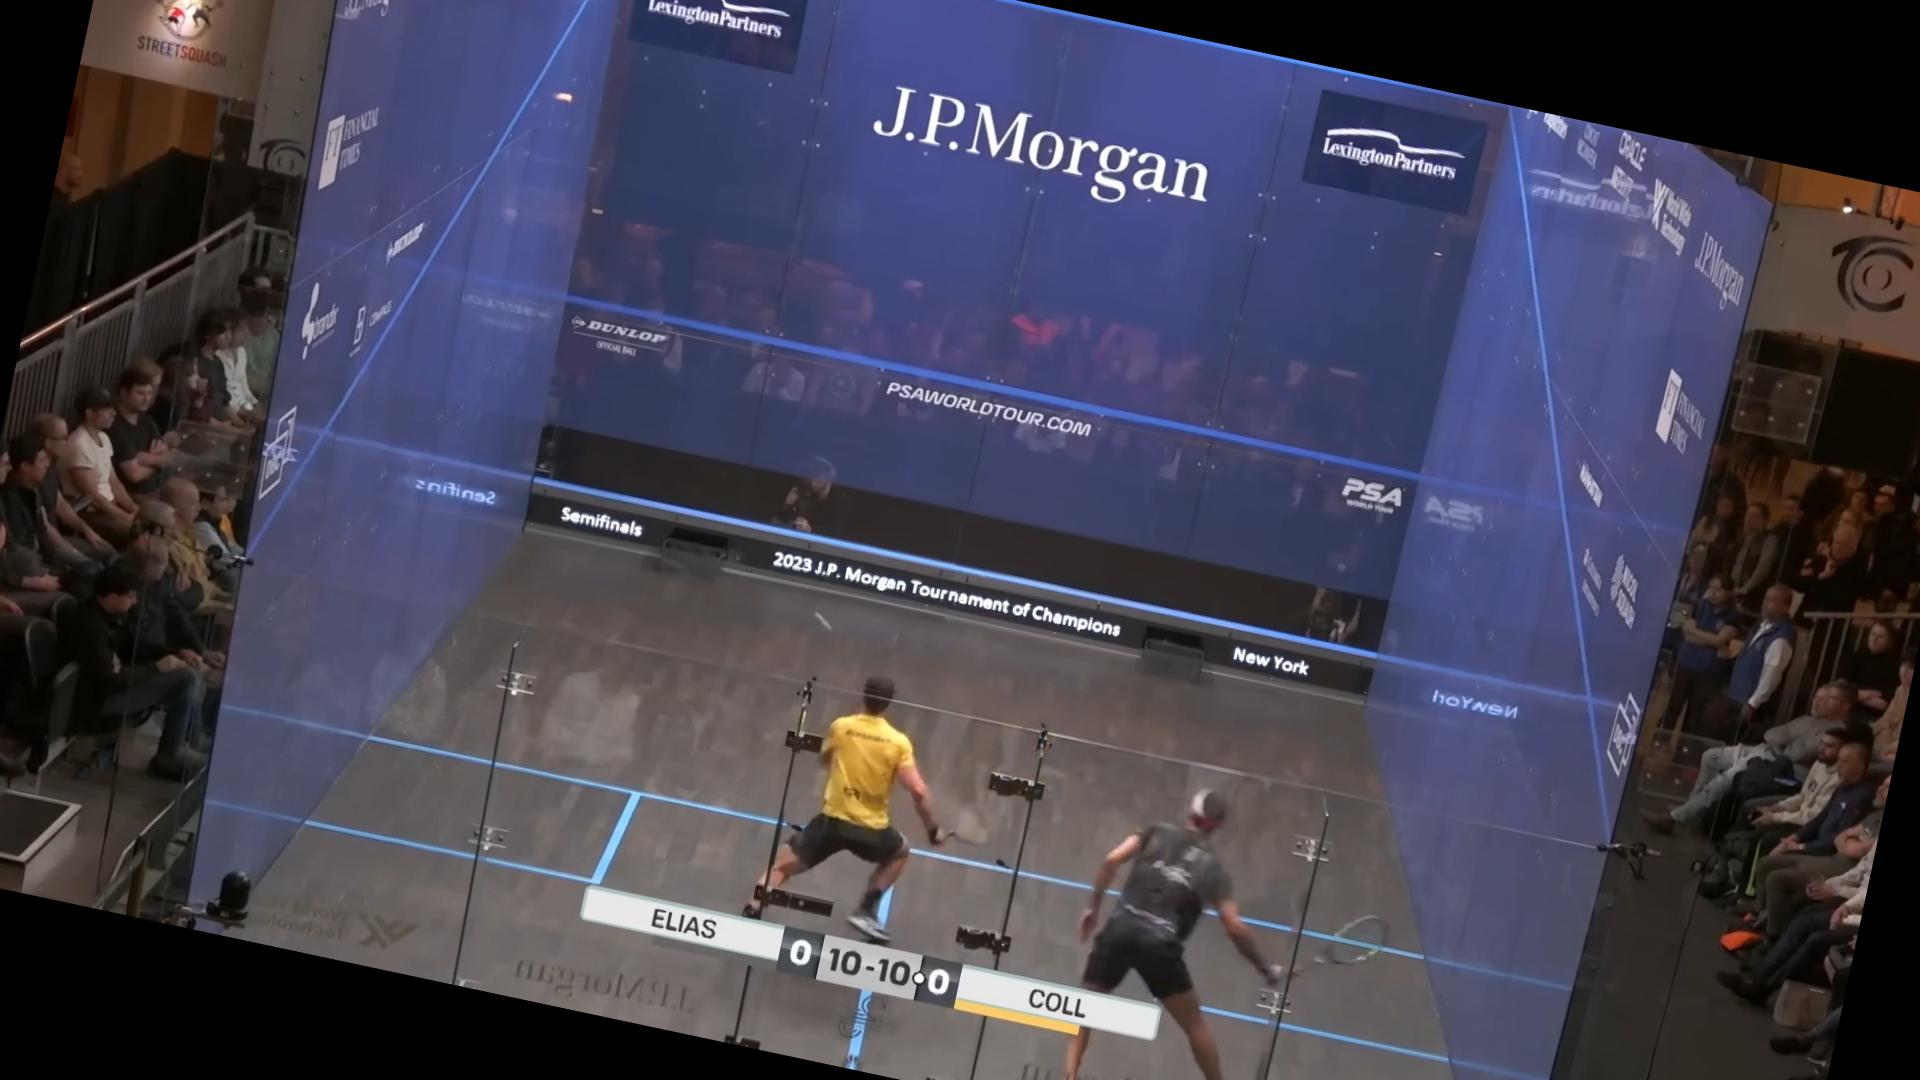Racket: (1274, 887, 1399, 996)
